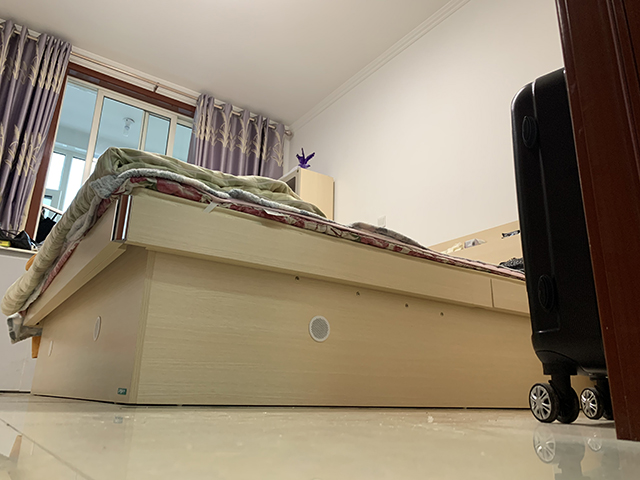bed: (1, 177, 595, 409)
